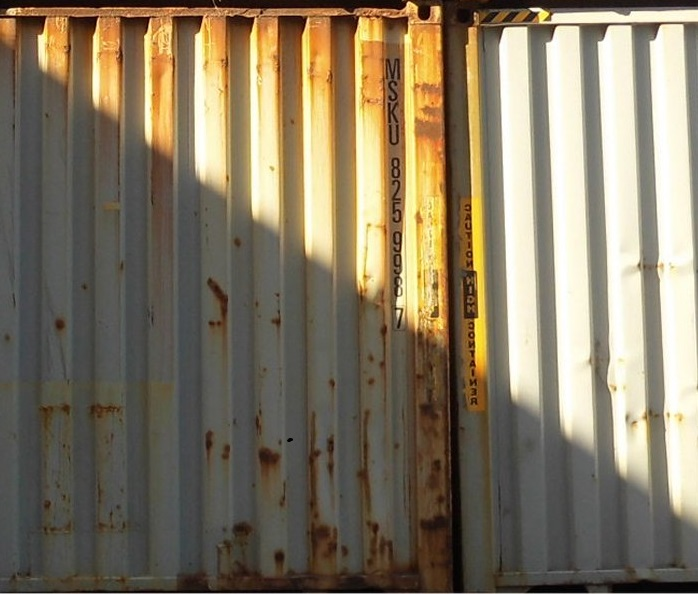container_no_door: (6, 2, 463, 588), (466, 1, 698, 592)
